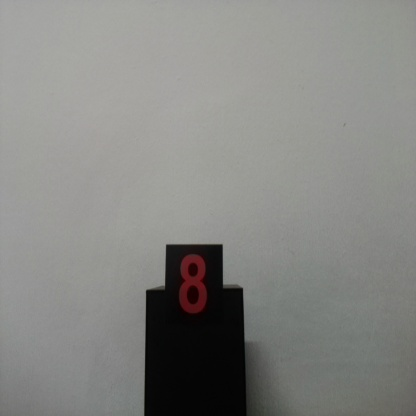id_8: (166, 246, 223, 336)
